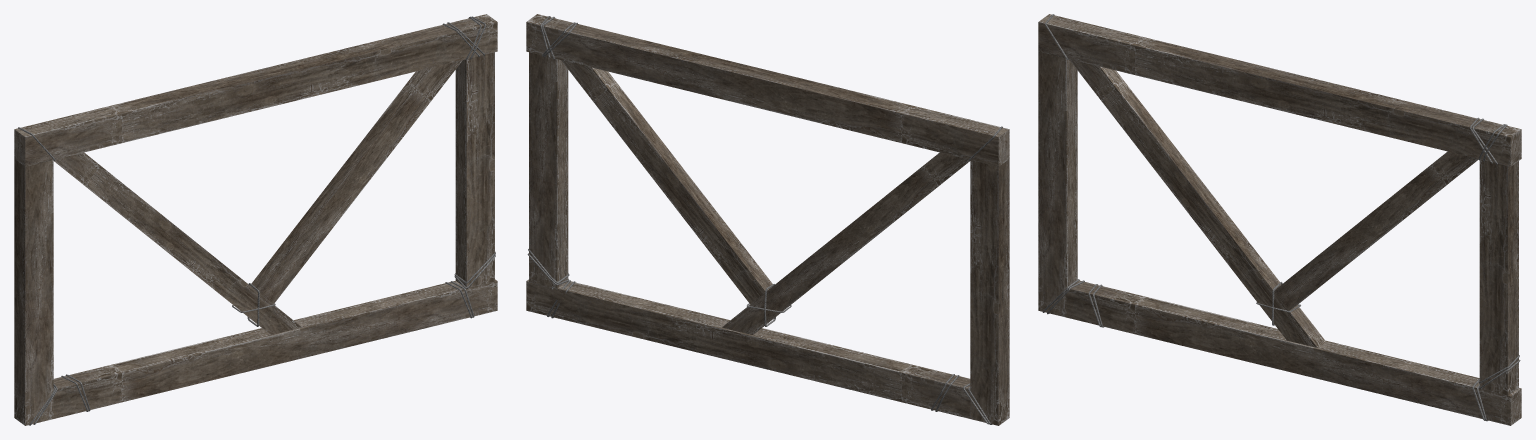
Rendered from SM_WoodPlank05.FBX.
3 renders of one model, left to right at view 1: azimuth 30°, elevation 25°; view 2: azimuth 150°, elevation 25°; view 3: azimuth 330°, elevation 25°, orthographic.
Parts seen in each view (by area): view 1: SM_WoodPlank05; view 2: SM_WoodPlank05; view 3: SM_WoodPlank05.
Part boxes in pixels (x1,y1,x2,y2): SM_WoodPlank05: (14,14,497,425); SM_WoodPlank05: (526,14,1009,425); SM_WoodPlank05: (1038,14,1521,425).
Bounding box in the file's own units: 628 × 32.54 × 371.
